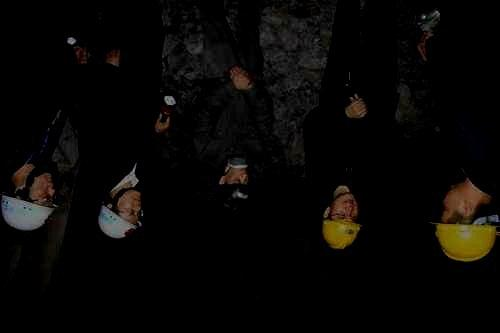helmet: (428, 184, 500, 262), (1, 171, 59, 232), (321, 192, 362, 250), (98, 189, 144, 238), (215, 167, 251, 210)
